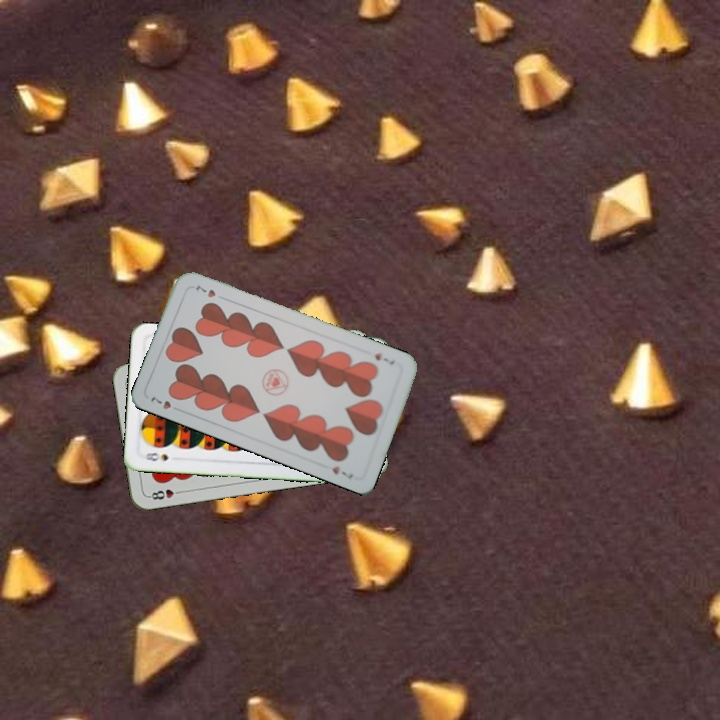H7: (146, 392, 184, 414), (371, 348, 397, 367)
H8: (145, 485, 185, 502)
S8: (142, 448, 171, 464)
